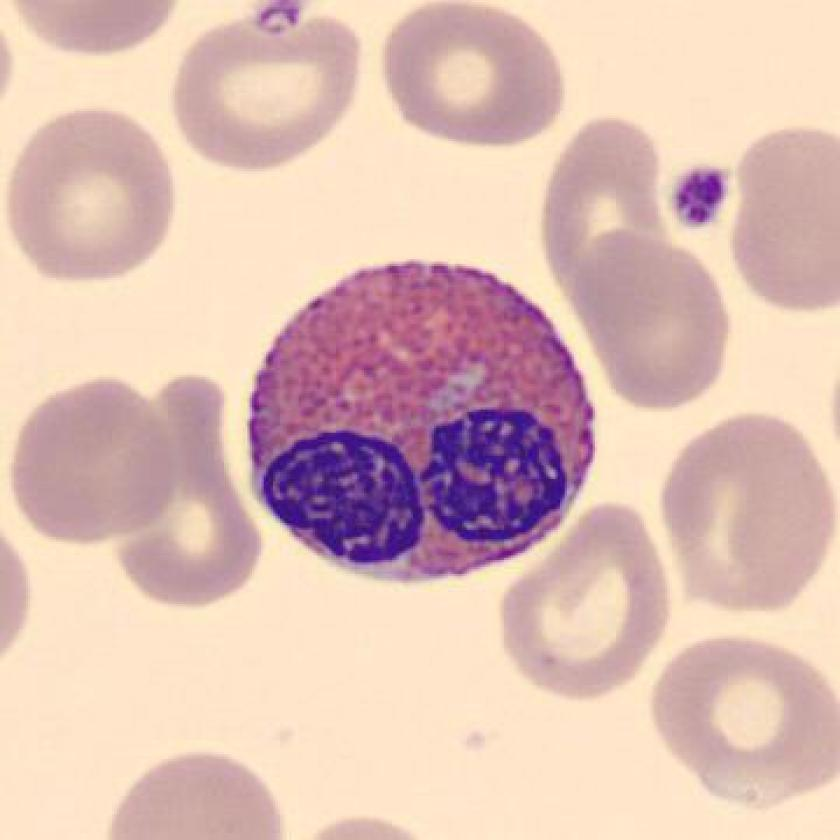eosinophil: (234, 247, 610, 601)
